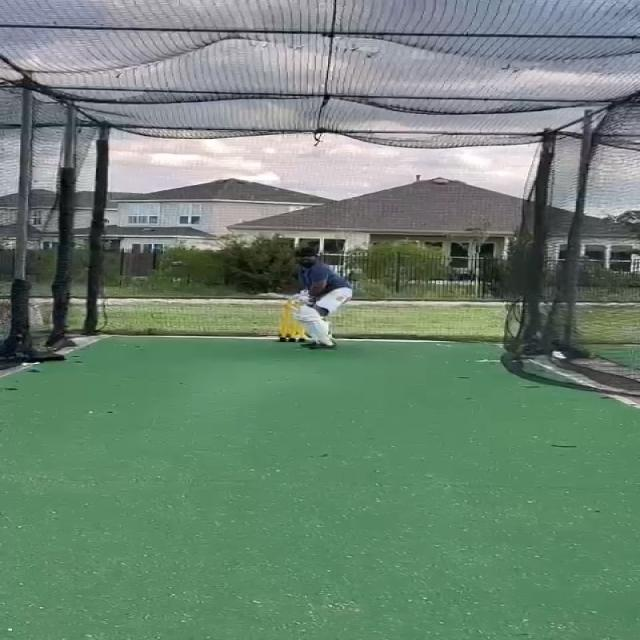batsman: (254, 246, 355, 352)
